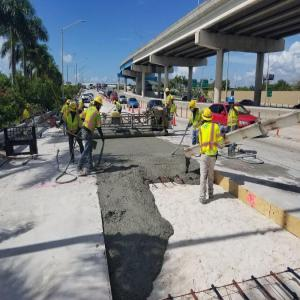blue: (228, 96, 236, 109)
white: (82, 96, 86, 102)
yellow: (203, 109, 214, 124), (95, 97, 104, 111), (70, 103, 78, 115), (190, 102, 198, 113), (26, 104, 31, 111), (166, 89, 170, 96), (171, 97, 175, 104), (67, 100, 71, 106), (114, 101, 117, 105)
